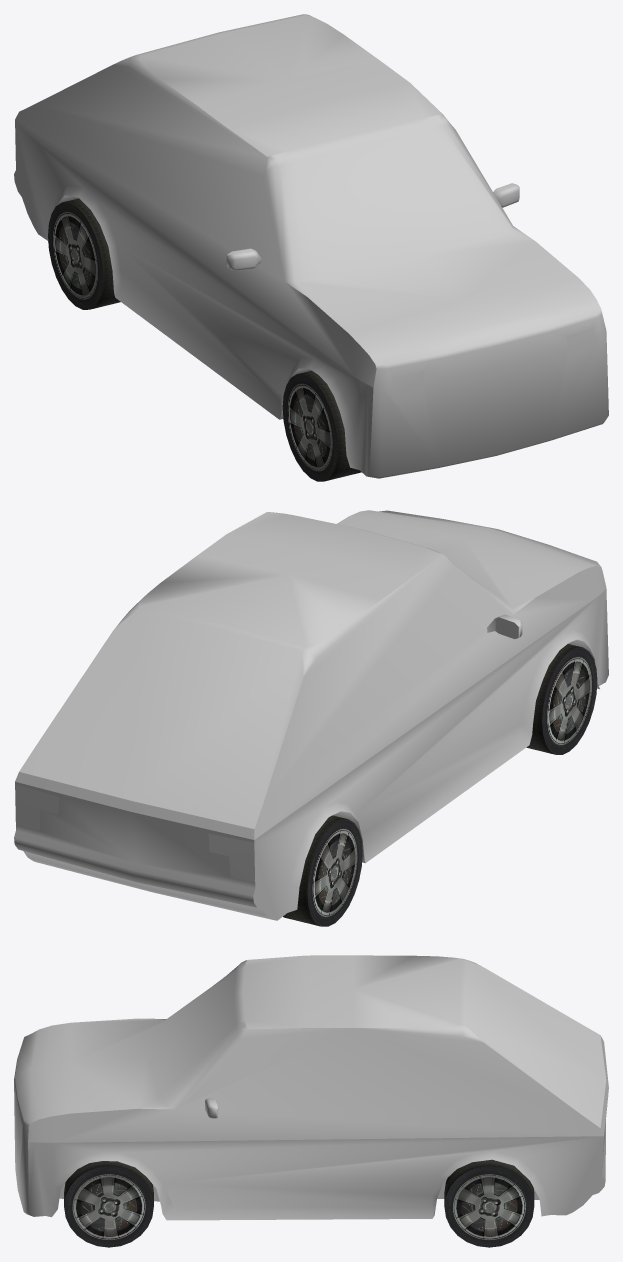
Rendered from Fiat 147.fbx.
3 renders of one model, top to bottom at view 1: azimuth 30°, elevation 25°; view 2: azimuth 150°, elevation 25°; view 3: azimuth 270°, elevation 25°, orthographic. The views are drawn at different scales.
Visible parts, largest first — view 1: Car, BR, FR, Car ON; view 2: Car, BR, FR, Car ON; view 3: Car, BL, FL.
Part boxes in pixels (x1,y1,x2,y2): Car: (14,14,608,478); BR: (48,198,120,309); FR: (282,370,361,481); Car ON: (391,328,595,397); Car: (14,510,608,920); BR: (283,815,362,926); FR: (526,644,597,754); Car ON: (15,784,254,882); Car: (14,955,608,1220); BL: (444,1159,534,1247); FL: (64,1161,153,1247).
Size of the model in its own units: 1.69 by 1.42 by 3.69.
